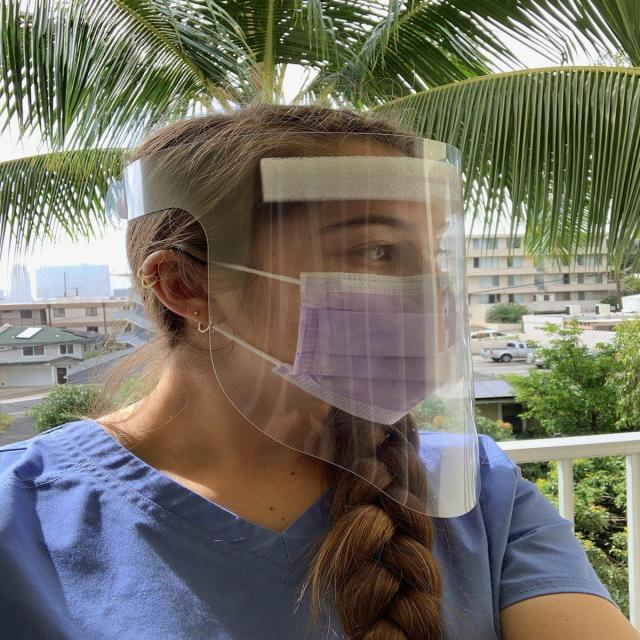Mask: (294, 270, 461, 428)
